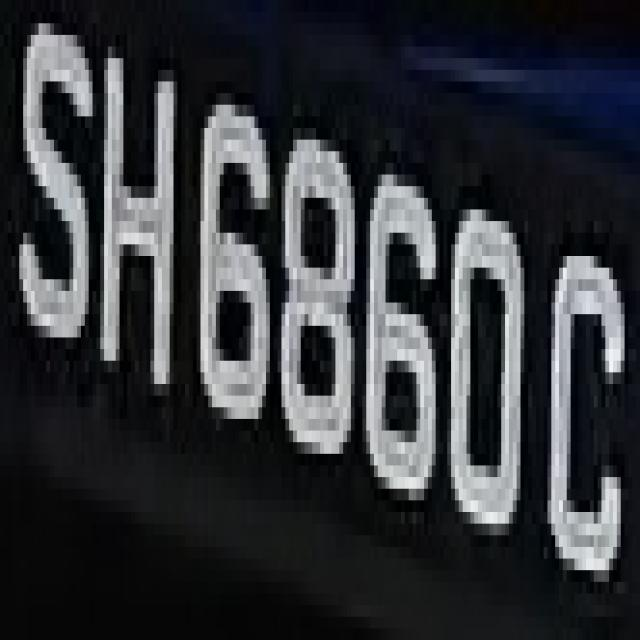0: (444, 151, 528, 559)
6: (189, 58, 270, 454), (362, 105, 440, 512)
8: (274, 82, 358, 500)
C: (551, 198, 640, 593)
H: (100, 35, 185, 407)
S: (19, 35, 93, 361)
